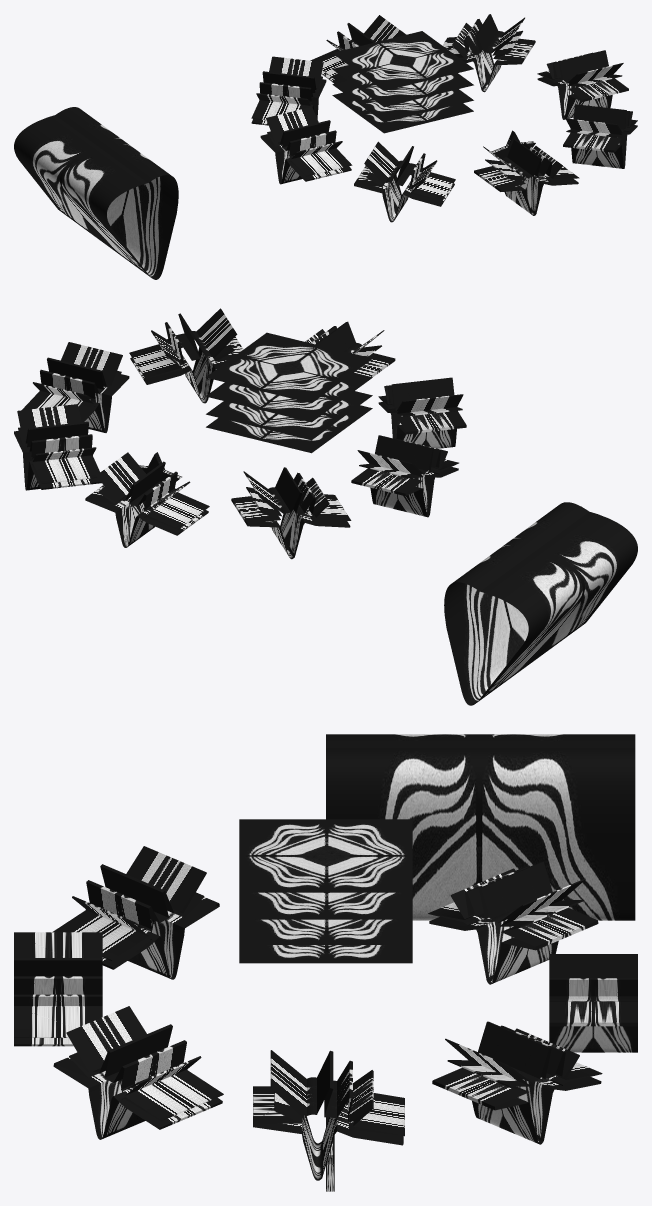
3 views of the same model, one above another, from view 1: azimuth 30°, elevation 25°; view 2: azimuth 150°, elevation 25°; view 3: azimuth 270°, elevation 25° (orthographic). The views are drawn at different scales.
Visible parts, largest first — view 1: spirale, no_alpha (×4), no_alpha.2, no_alpha.3, no_alpha.4, no_alpha.5, no_alpha.6, no_alpha.1, no_alpha.7, no_alpha.8; view 2: spirale, no_alpha (×4), no_alpha.8, no_alpha.7, no_alpha.6, no_alpha.2, no_alpha.1, no_alpha.5, no_alpha.3, no_alpha.4; view 3: spirale, no_alpha (×4), no_alpha.5, no_alpha.3, no_alpha.7, no_alpha.1, no_alpha.6, no_alpha.4, no_alpha.8.
Part boxes in pixels (x1=…): spirale: x1=14, y1=107, x2=178, y2=279; no_alpha (×4): x1=332, y1=31, x2=473, y2=133; no_alpha.2: x1=260, y1=107, x2=352, y2=184; no_alpha.3: x1=354, y1=141, x2=455, y2=222; no_alpha.4: x1=474, y1=139, x2=579, y2=215; no_alpha.5: x1=563, y1=104, x2=637, y2=168; no_alpha.6: x1=537, y1=50, x2=628, y2=119; no_alpha.1: x1=251, y1=56, x2=326, y2=125; no_alpha.7: x1=442, y1=14, x2=535, y2=92; no_alpha.8: x1=310, y1=15, x2=406, y2=83; spirale: x1=444, y1=502, x2=637, y2=705; no_alpha (×4): x1=205, y1=332, x2=372, y2=453; no_alpha.8: x1=85, y1=452, x2=209, y2=547; no_alpha.7: x1=14, y1=404, x2=101, y2=490; no_alpha.6: x1=22, y1=342, x2=129, y2=432; no_alpha.2: x1=351, y1=435, x2=458, y2=517; no_alpha.1: x1=231, y1=467, x2=351, y2=559; no_alpha.5: x1=129, y1=308, x2=243, y2=403; no_alpha.3: x1=378, y1=377, x2=466, y2=448; no_alpha.4: x1=305, y1=321, x2=395, y2=377; spirale: x1=326, y1=734, x2=635, y2=920; no_alpha (×4): x1=239, y1=819, x2=412, y2=963; no_alpha.5: x1=53, y1=1006, x2=223, y2=1139; no_alpha.3: x1=52, y1=846, x2=219, y2=979; no_alpha.7: x1=432, y1=1021, x2=602, y2=1144; no_alpha.1: x1=428, y1=861, x2=598, y2=984; no_alpha.6: x1=253, y1=1050, x2=404, y2=1180; no_alpha.4: x1=14, y1=932, x2=102, y2=1046; no_alpha.8: x1=549, y1=954, x2=637, y2=1052.
Size of the model in its own units: 2216 by 672 by 1438.
1 material, 1 textured.
